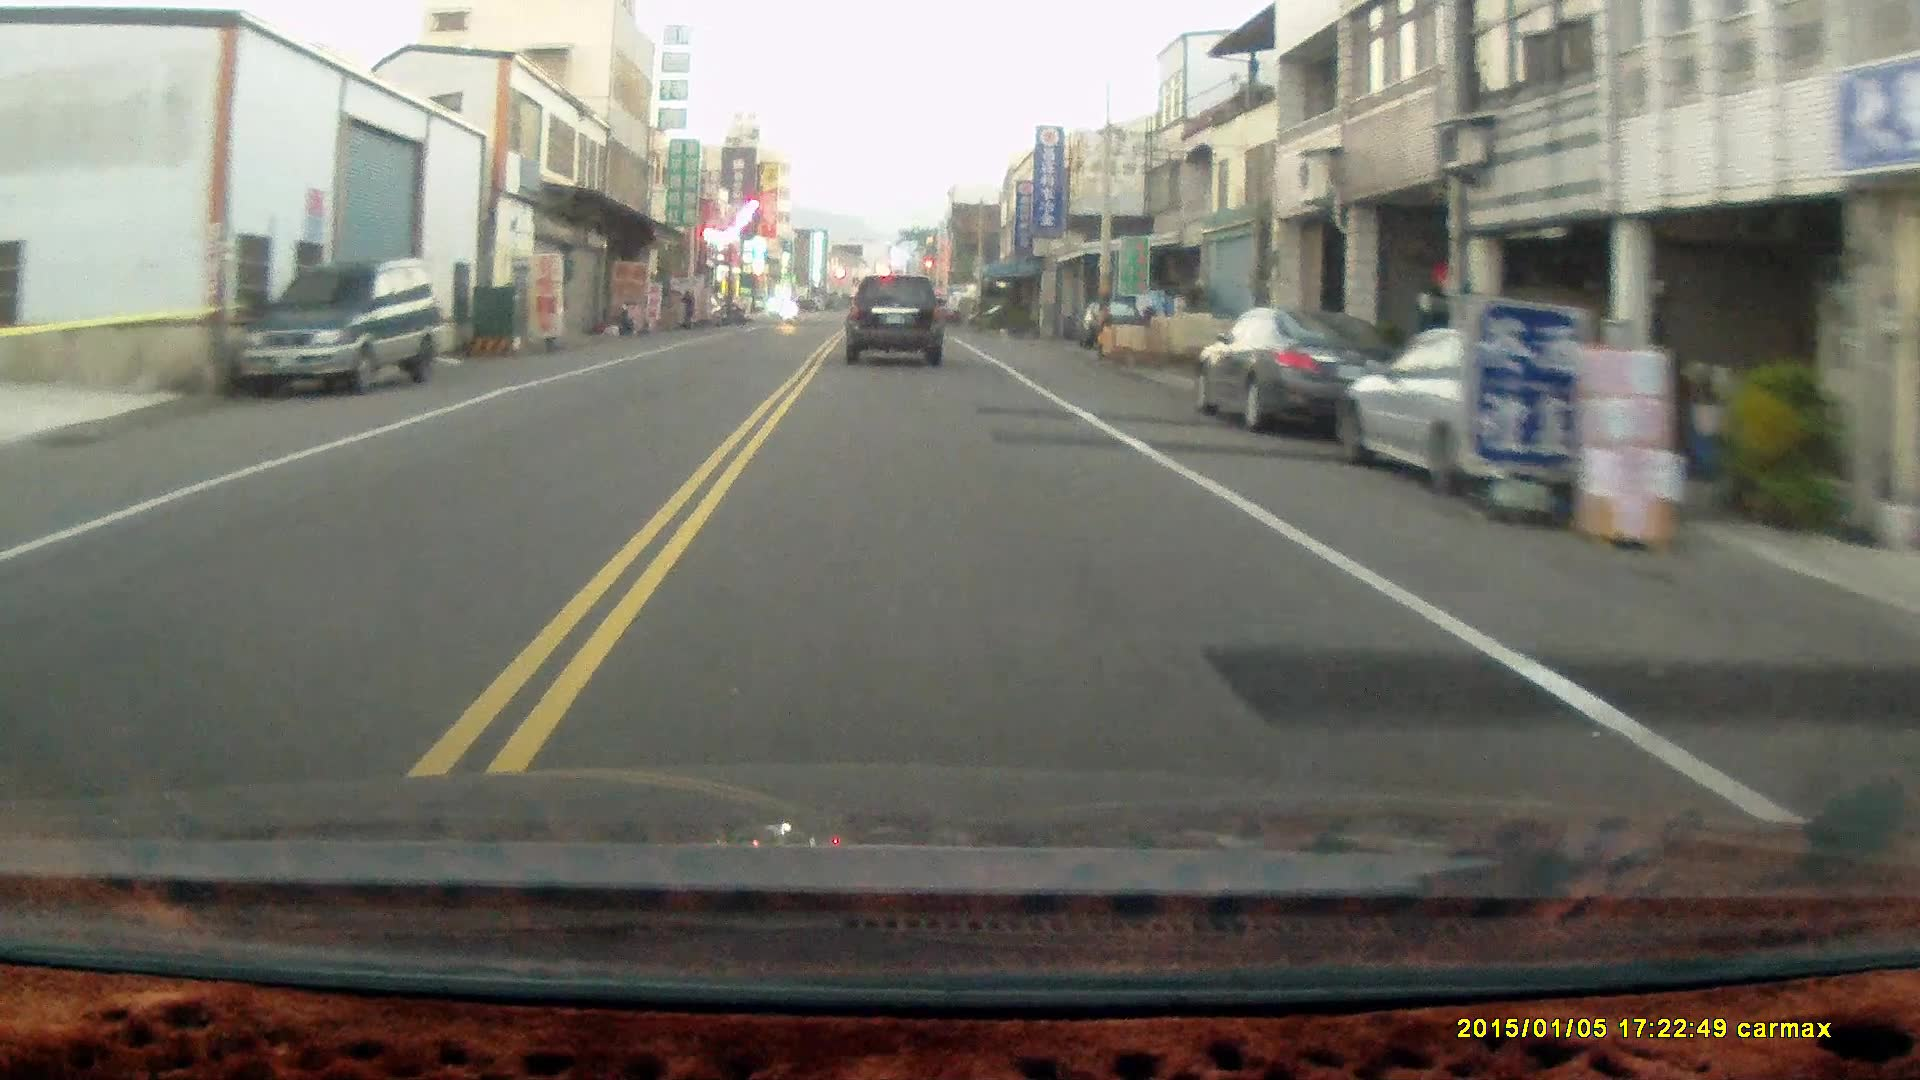pedestrian: (675, 286, 695, 332)
vehicle: (1341, 325, 1677, 503), (233, 254, 446, 398), (1192, 308, 1416, 437), (845, 275, 947, 369)
